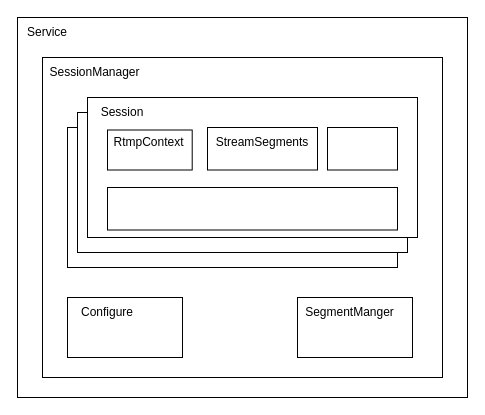
This 485x415 diagram has some shape labels left out. Each missing label, with the centre of its shape:
Transporter: point (252, 208)
TsMuxer: point (362, 148)
